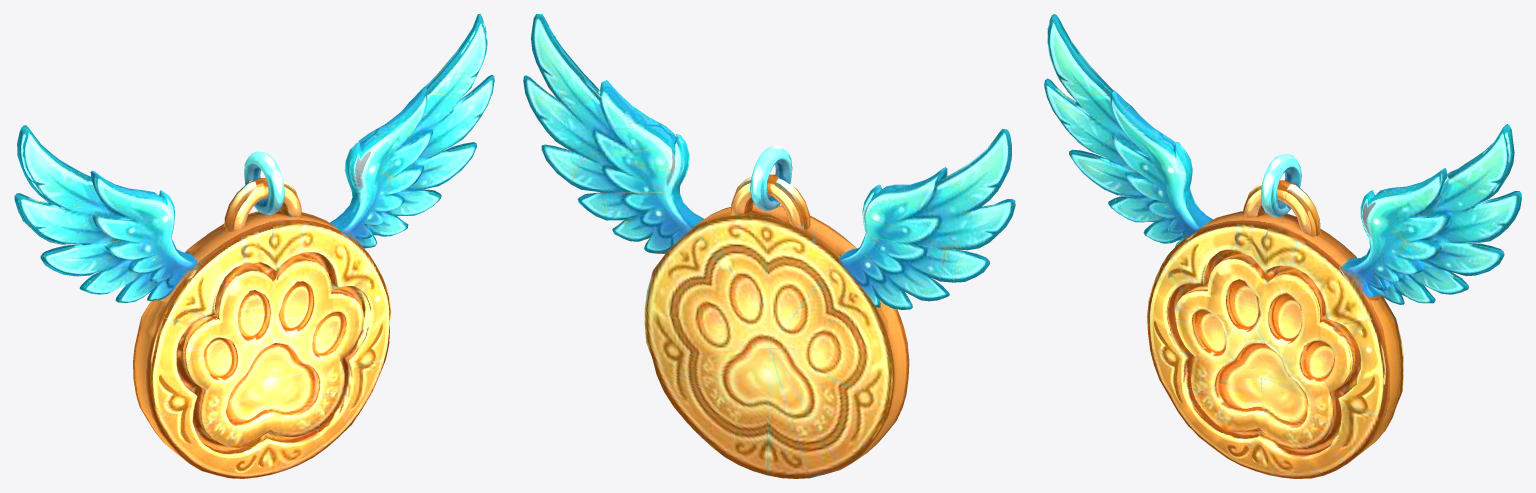
Rendered from pickup_dash.glb.
3 renders of one model, left to right at view 1: azimuth 30°, elevation 25°; view 2: azimuth 150°, elevation 25°; view 3: azimuth 330°, elevation 25°, orthographic. The views are drawn at different scales.
Parts seen in each view (by area): view 1: pickup_dash; view 2: pickup_dash; view 3: pickup_dash.
Part boxes in pixels (x1,y1,x2,y2): pickup_dash: [14, 14, 494, 478]; pickup_dash: [523, 14, 1015, 478]; pickup_dash: [1044, 14, 1521, 478].
Size of the model in its own units: 1.11 by 0.8743 by 0.1349.
1 material, 1 textured.
